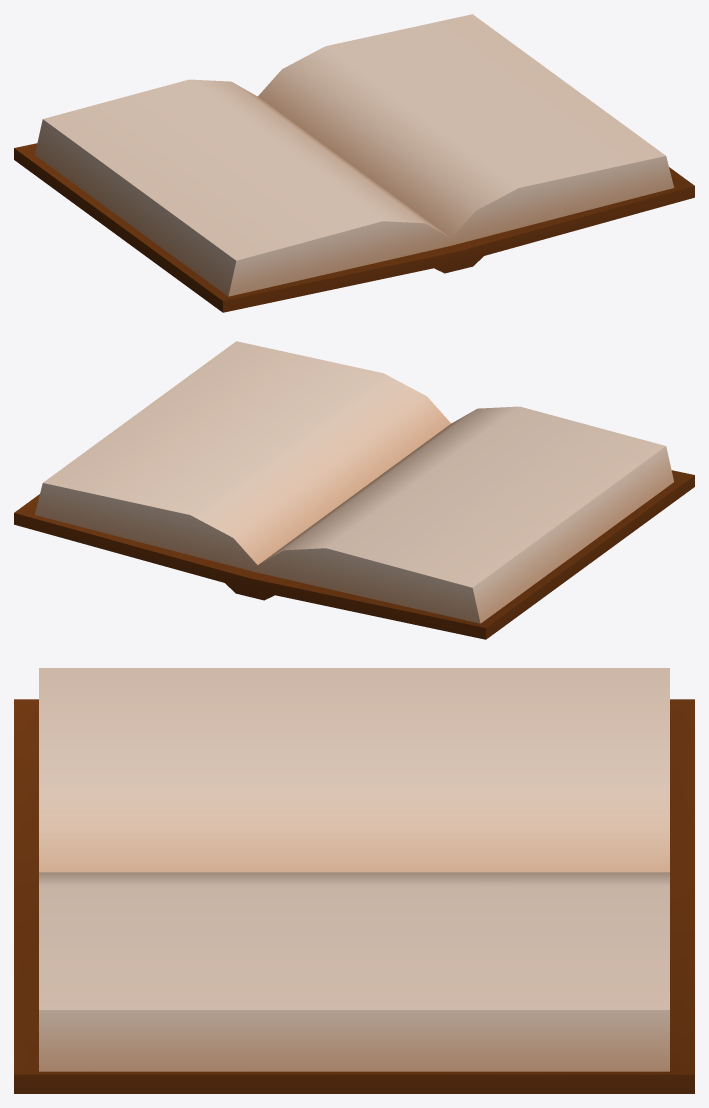
Rendered from BookOpen2.fbx.
The picture shows the model from 3 angles, top to bottom: view 1: azimuth 30°, elevation 25°; view 2: azimuth 150°, elevation 25°; view 3: azimuth 270°, elevation 25°; orthographic projection. The views are drawn at different scales.
Parts seen in each view (by area): view 1: BookOpen2; view 2: BookOpen2; view 3: BookOpen2.
Part boxes in pixels (box(x1,y1,x2,y2)): BookOpen2: box(14, 14, 694, 312); BookOpen2: box(14, 341, 694, 639); BookOpen2: box(14, 668, 694, 1093).
Bounding box in the file's own units: 43.62 × 5.29 × 33.45.
